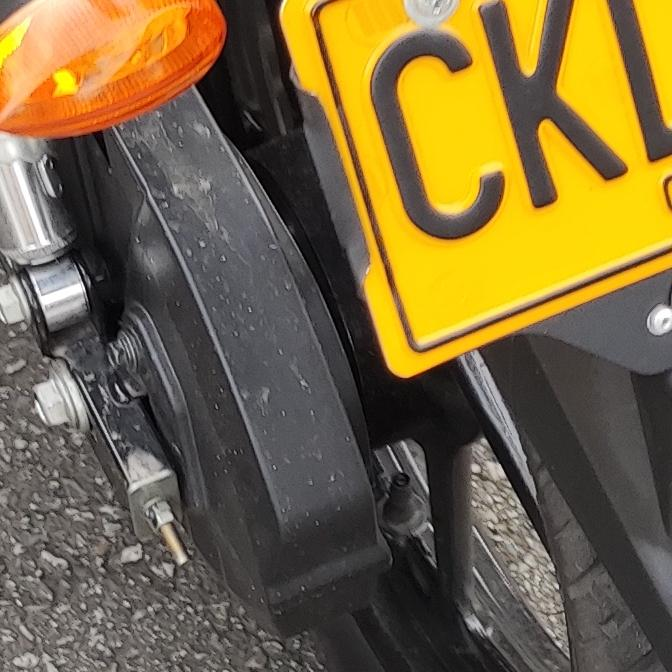plates: (291, 0, 672, 379)
